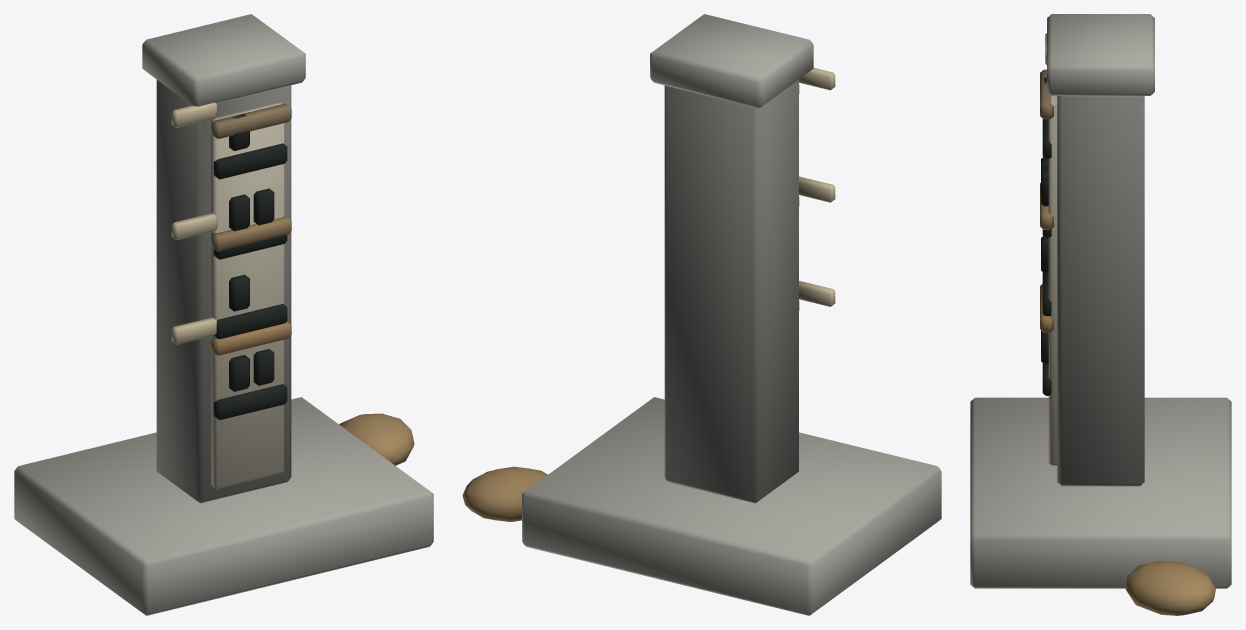
File: flood_staff_a.glb
3 views of the same model, side by side, from view 1: azimuth 30°, elevation 25°; view 2: azimuth 150°, elevation 25°; view 3: azimuth 270°, elevation 25° (orthographic).
Visible parts, largest first — view 1: Surface; view 2: Surface; view 3: Surface.
Boxes of the visible parts, x1,y1,x2,y2 form: Surface: (14, 14, 433, 615); Surface: (462, 14, 941, 615); Surface: (970, 14, 1231, 615).
Bounding box in the file's own units: 3.61 × 4.58 × 2.25.
